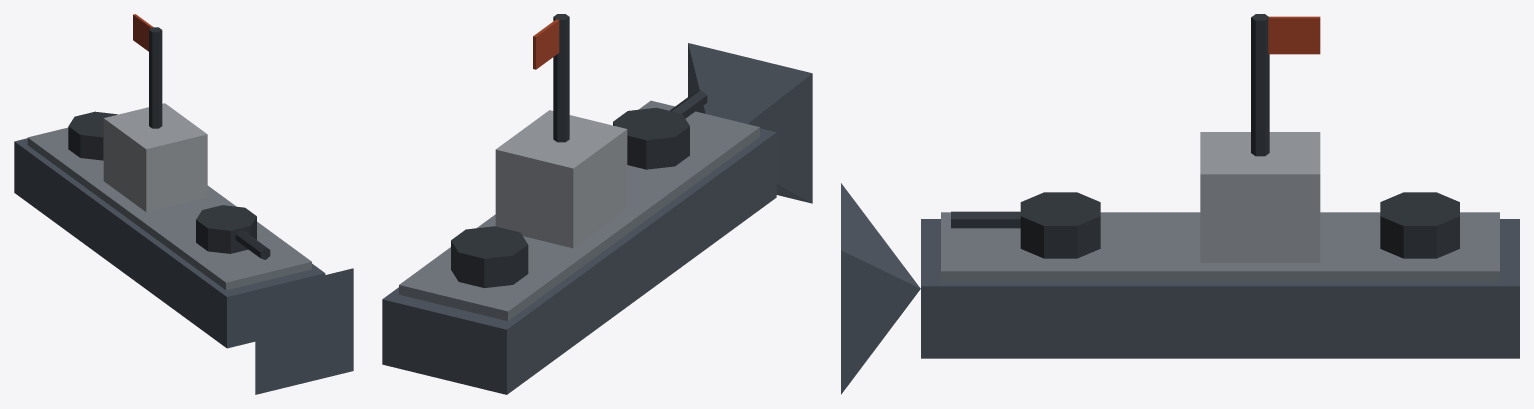
File: warship.glb
The picture shows the model from 3 angles, left to right: view 1: azimuth 30°, elevation 25°; view 2: azimuth 150°, elevation 25°; view 3: azimuth 270°, elevation 25°; orthographic projection. The views are drawn at different scales.
Visible parts, largest first — view 1: hull, bow, deck, bridge, turret_front, turret_back, mast, barrel_front, flag; view 2: hull, bridge, deck, bow, turret_back, turret_front, mast, flag, barrel_front; view 3: hull, deck, bridge, bow, turret_front, turret_back, mast, flag, barrel_front.
Boxes of the visible parts, x1,y1,x2,y2 form: hull: [14, 138, 325, 348]; bow: [255, 268, 353, 394]; deck: [27, 127, 311, 290]; bridge: [103, 103, 207, 212]; turret_front: [196, 205, 256, 253]; turret_back: [68, 111, 117, 160]; mast: [149, 27, 162, 128]; barrel_front: [235, 230, 270, 259]; flag: [133, 14, 153, 51]; hull: [382, 128, 776, 394]; bridge: [495, 110, 627, 248]; deck: [399, 100, 759, 320]; bow: [688, 43, 812, 203]; turret_back: [451, 226, 528, 287]; turret_front: [613, 107, 689, 169]; mast: [553, 14, 569, 142]; flag: [533, 19, 559, 69]; barrel_front: [669, 90, 707, 118]; hull: [921, 219, 1519, 358]; deck: [941, 212, 1499, 282]; bridge: [1200, 132, 1320, 262]; bow: [841, 183, 920, 394]; turret_front: [1020, 192, 1100, 258]; turret_back: [1380, 192, 1459, 258]; mast: [1251, 14, 1269, 156]; flag: [1268, 16, 1320, 54]; barrel_front: [951, 211, 1020, 228].
Size of the model in its own units: 0.08 by 0.19 by 0.34.
